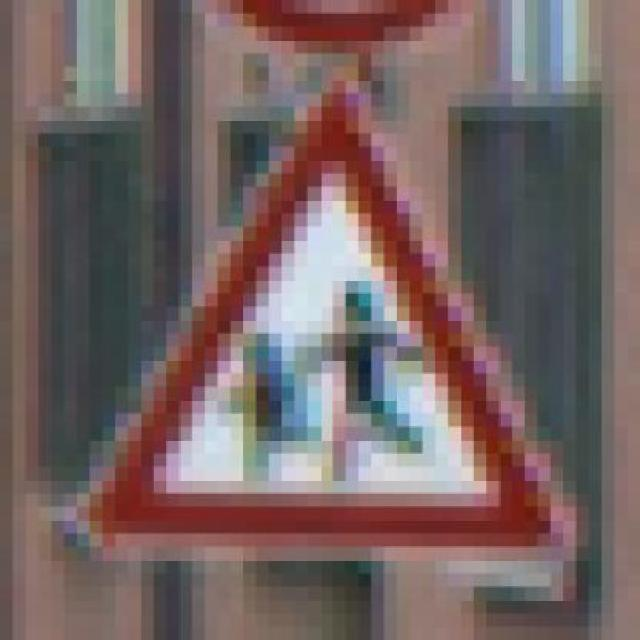Beware of children: (64, 80, 576, 560)
